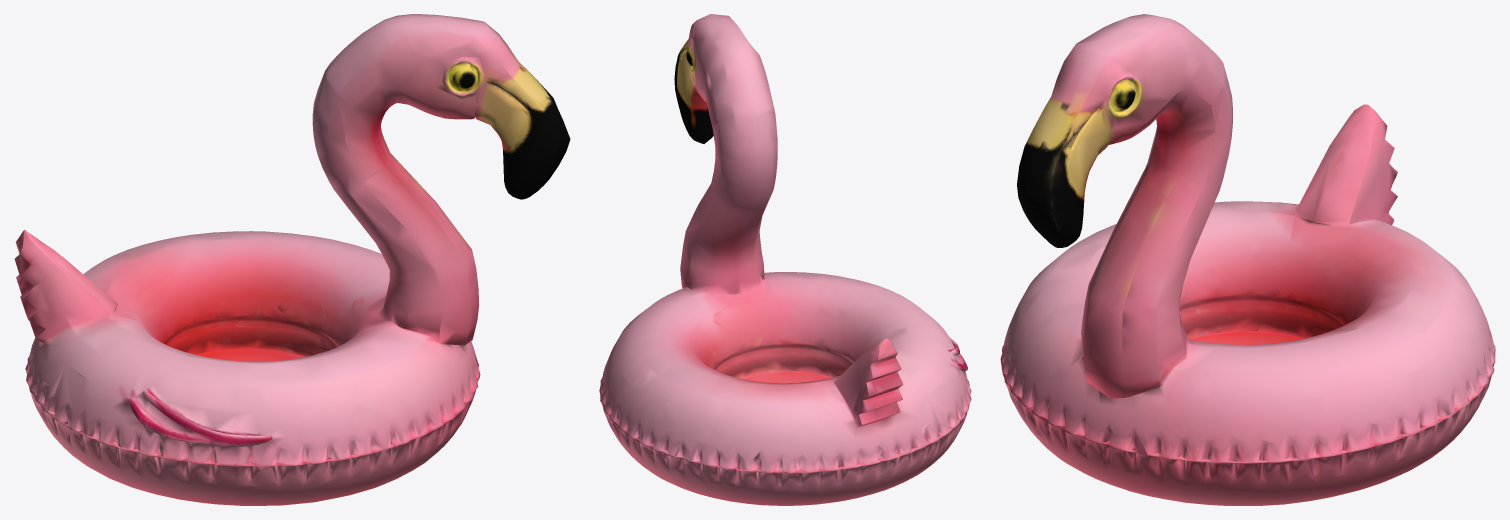
File: inflatable flamingo.fbx
3 renders of one model, left to right at view 1: azimuth 30°, elevation 25°; view 2: azimuth 150°, elevation 25°; view 3: azimuth 270°, elevation 25°, orthographic. The views are drawn at different scales.
Parts seen in each view (by area): view 1: node_0.002; view 2: node_0.002; view 3: node_0.002.
Part boxes in pixels (<box>): node_0.002: <box>14,14,570,505</box>; node_0.002: <box>599,14,971,505</box>; node_0.002: <box>1000,14,1495,505</box>.
Size of the model in its own units: 0.3754 by 0.3671 by 0.3503.
1 material, 1 textured.
